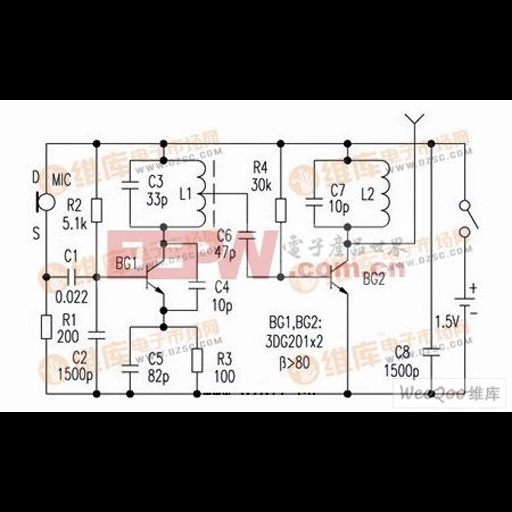capacitor: (422, 343, 444, 363), (118, 359, 141, 378), (234, 226, 257, 244), (303, 193, 324, 211), (186, 278, 209, 294), (64, 267, 81, 287), (86, 328, 107, 344), (121, 176, 139, 194)
firstresistance: (268, 195, 292, 225), (87, 195, 108, 226), (189, 345, 207, 376), (38, 312, 54, 343)
inductor: (376, 159, 396, 227), (192, 159, 209, 226)
npn: (320, 256, 355, 301), (140, 255, 170, 297)
